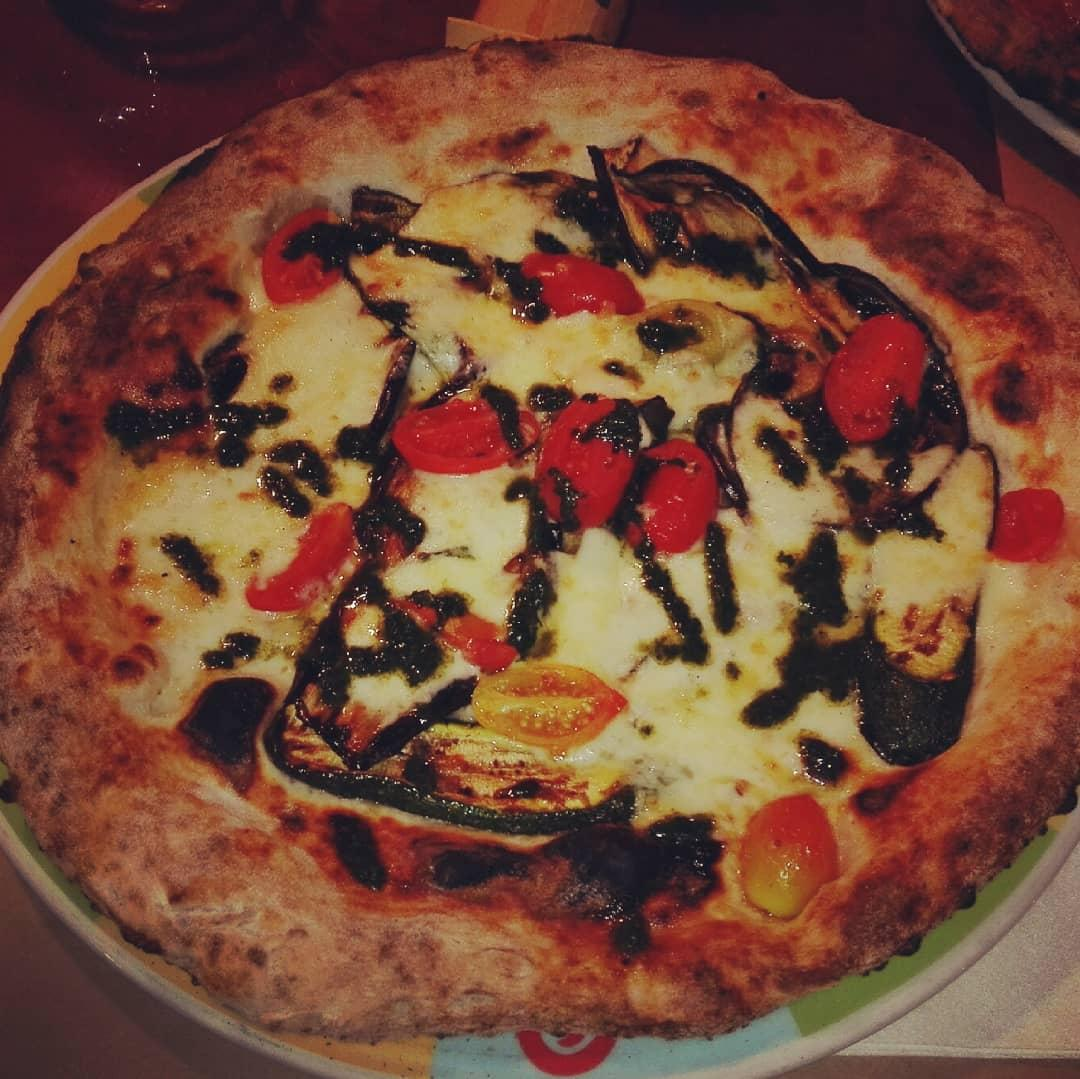Pizza: (0, 35, 1080, 1032)
Tomatoes: (813, 307, 937, 453), (727, 778, 848, 927), (468, 655, 638, 758), (535, 390, 642, 542), (245, 488, 370, 618), (385, 577, 522, 682), (248, 193, 358, 318), (387, 385, 543, 473), (635, 423, 723, 570), (505, 248, 652, 335)
